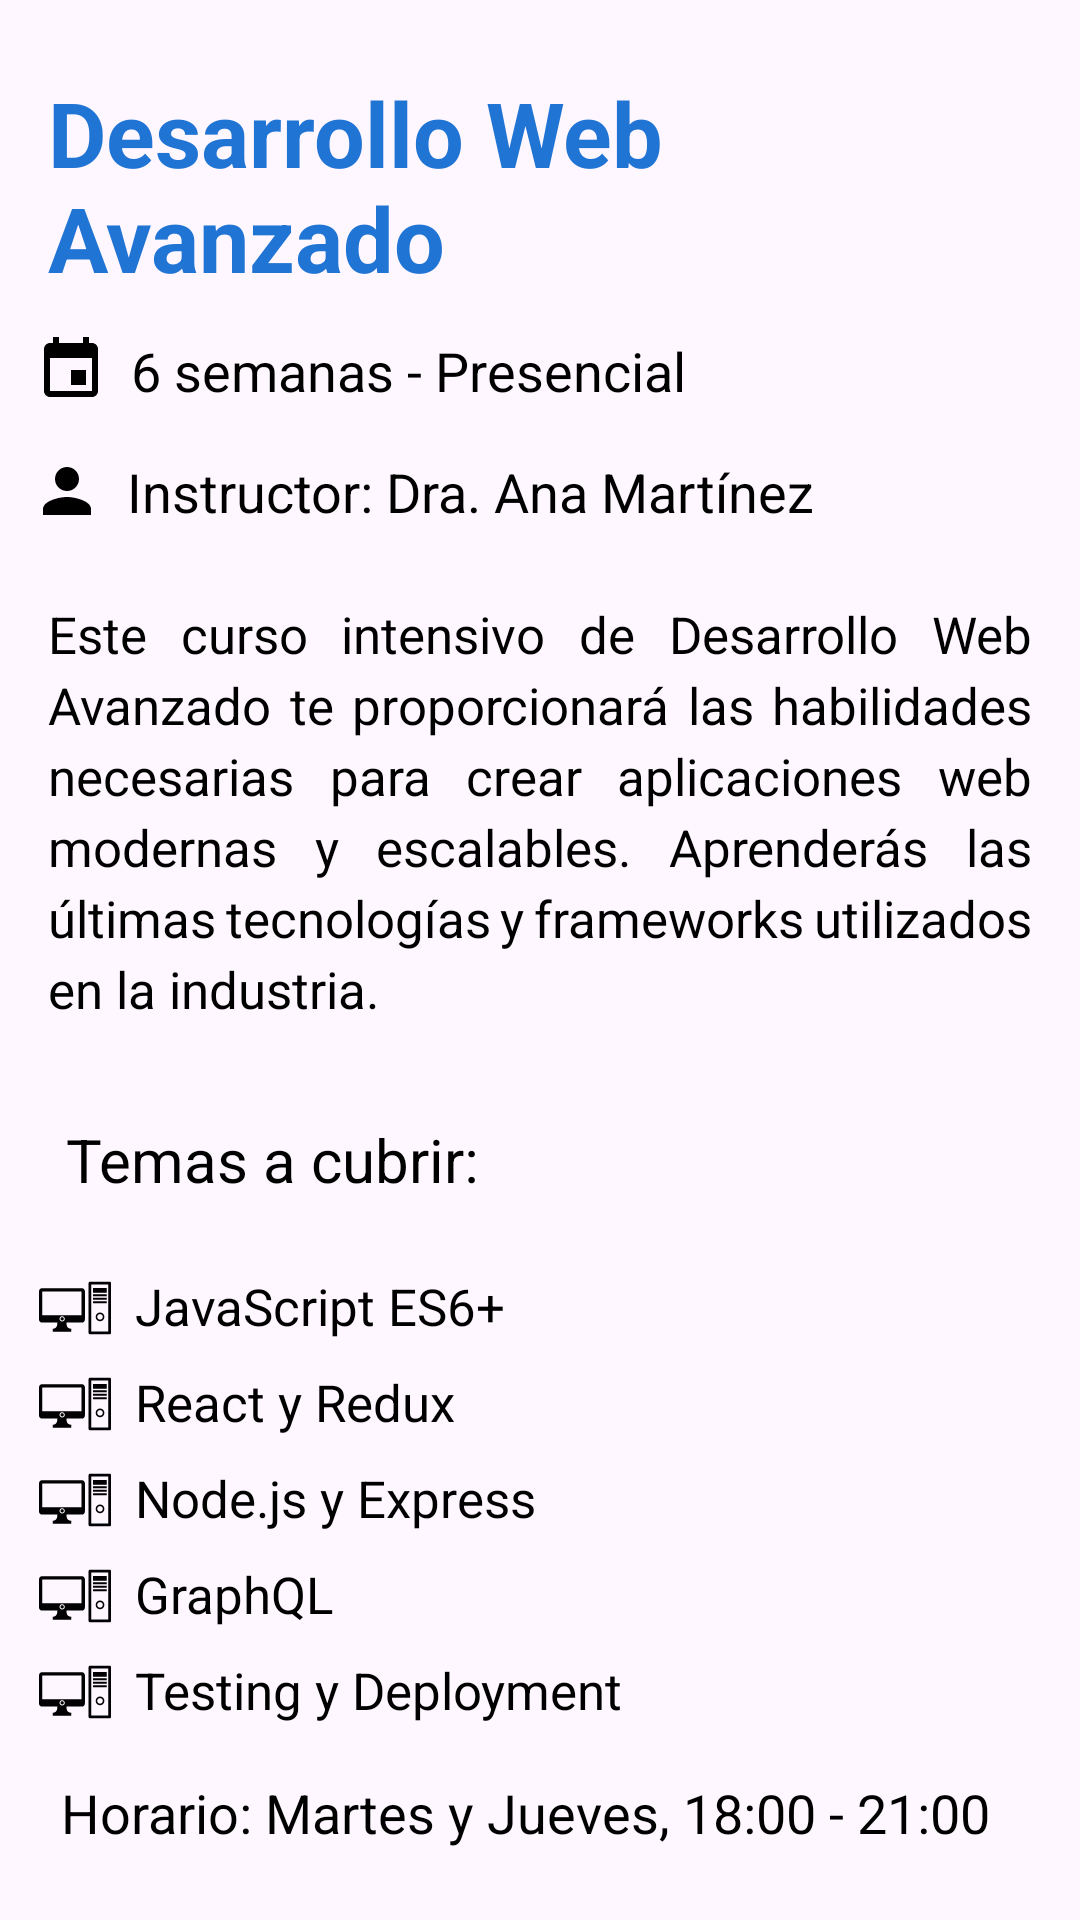

Named icons in this screenshot (1080 × 1920) and their centers, [x,y]:
calendar: [71,367]
computadora: [75,1308], [75,1404], [75,1500], [75,1596], [75,1692]
person: [67,491]
